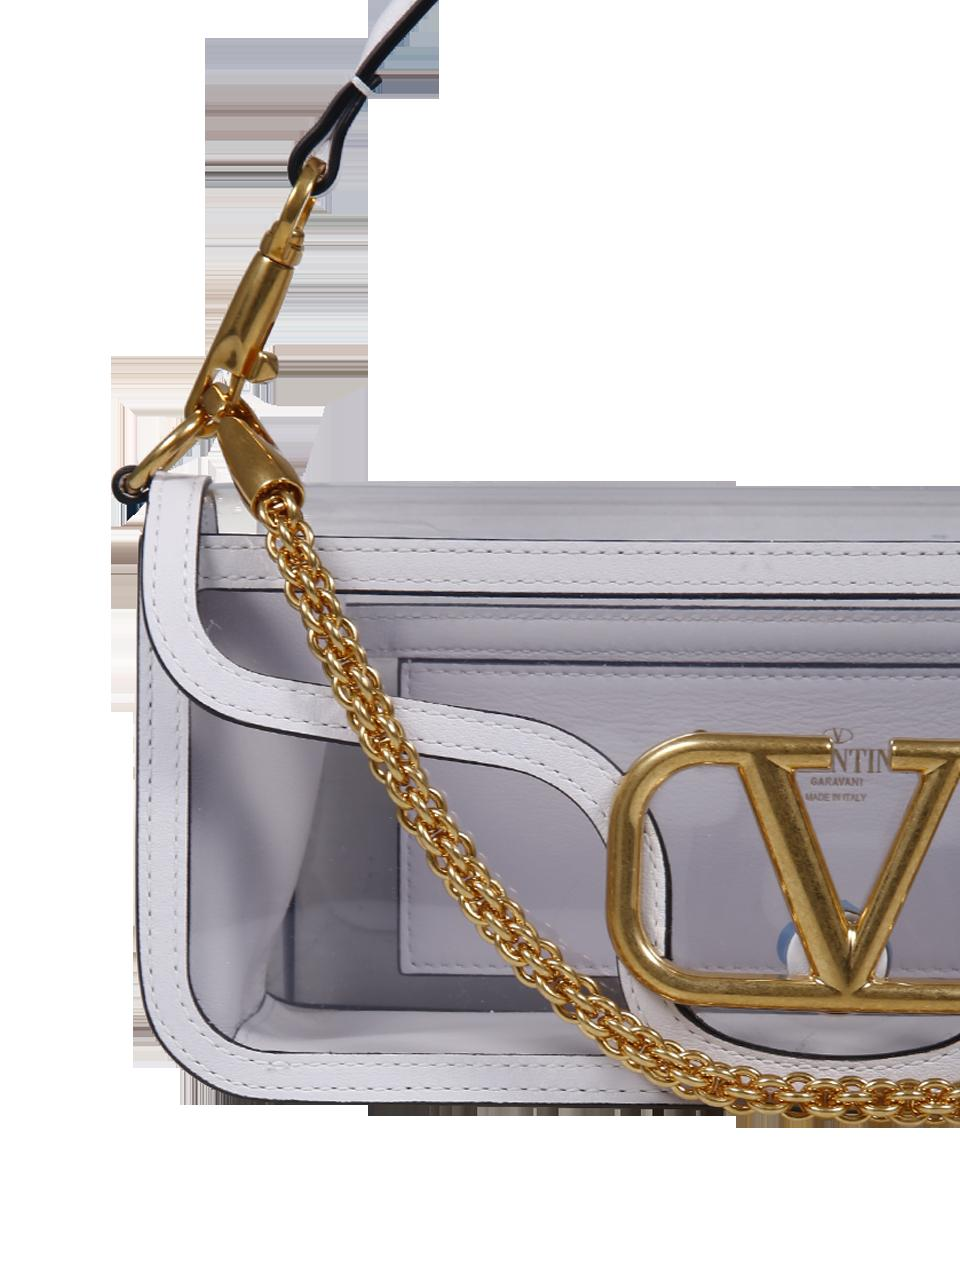VALENTINO: (606, 729, 958, 1014)
